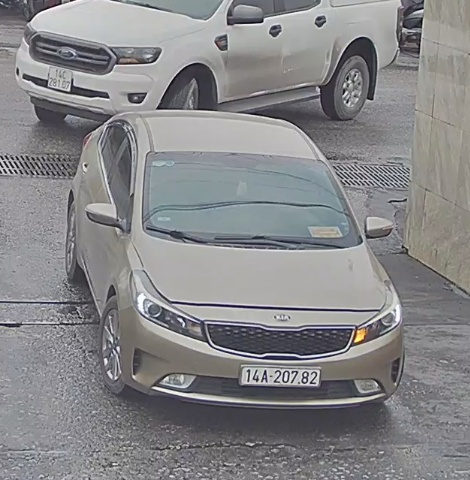vehicle plate: (235, 360, 326, 394)
